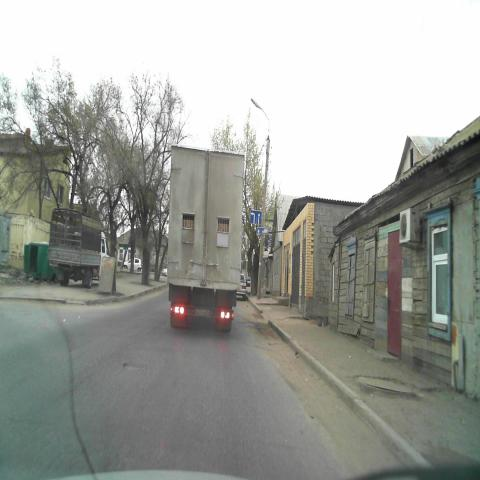6_15_1: (256, 226, 268, 238)
